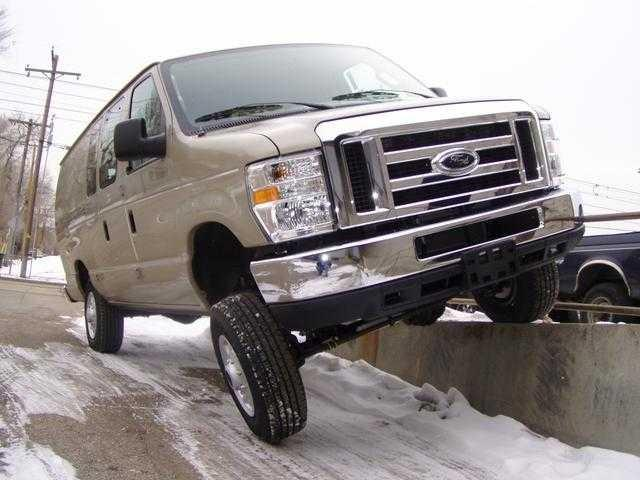car: (57, 43, 604, 451)
